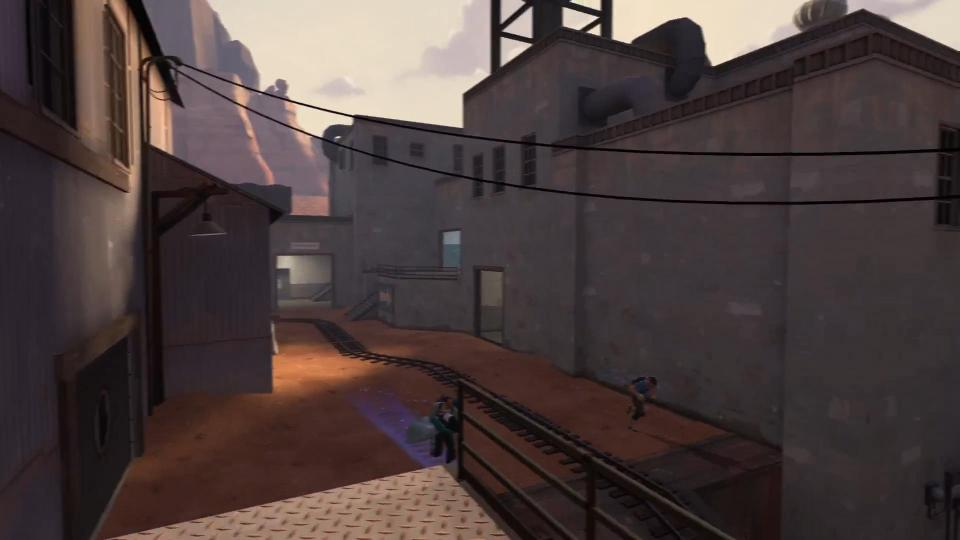Enemy: (405, 394, 459, 463), (626, 375, 658, 433)
